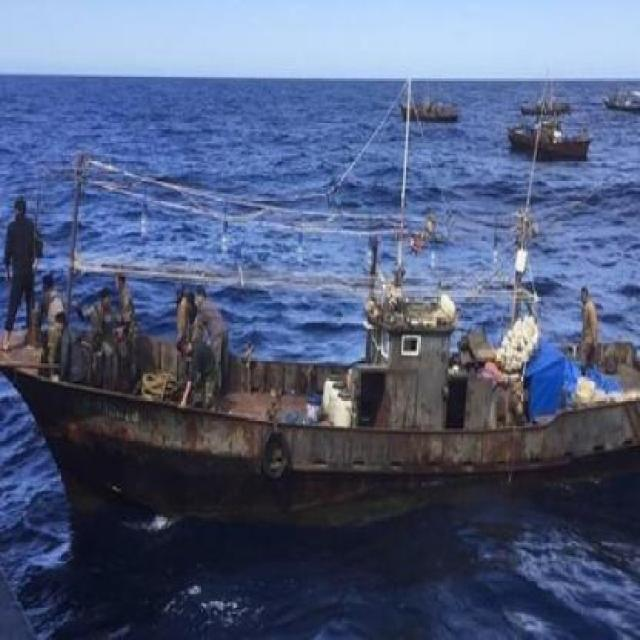fish-b: (2, 247, 640, 513), (505, 118, 602, 167), (517, 86, 579, 123), (396, 96, 461, 128)
